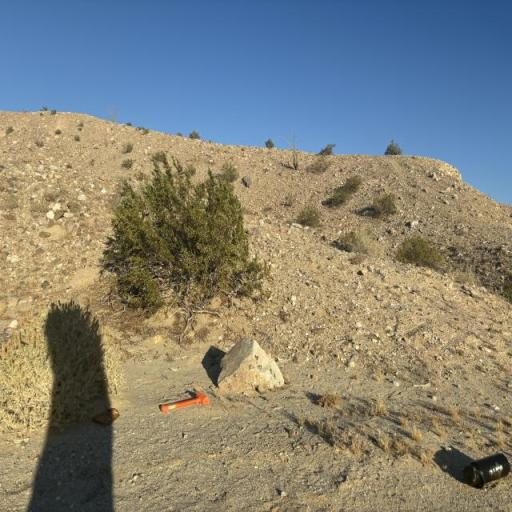bottle: (464, 448, 512, 490)
mallet: (157, 385, 210, 420)
